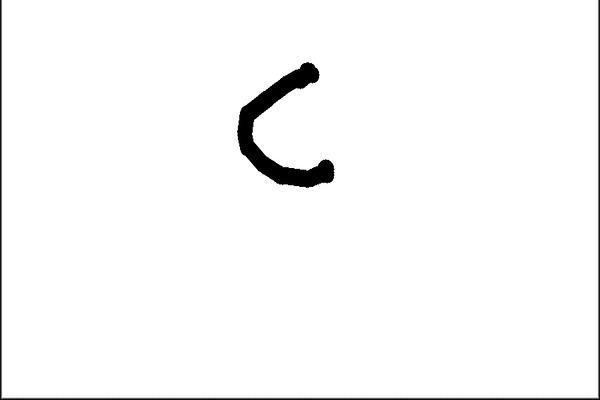C: (230, 57, 340, 192)
